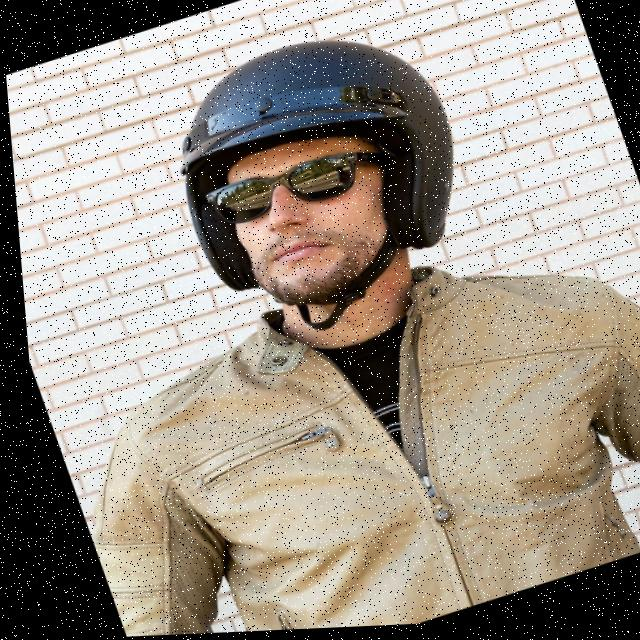helmet: (130, 0, 507, 351)
